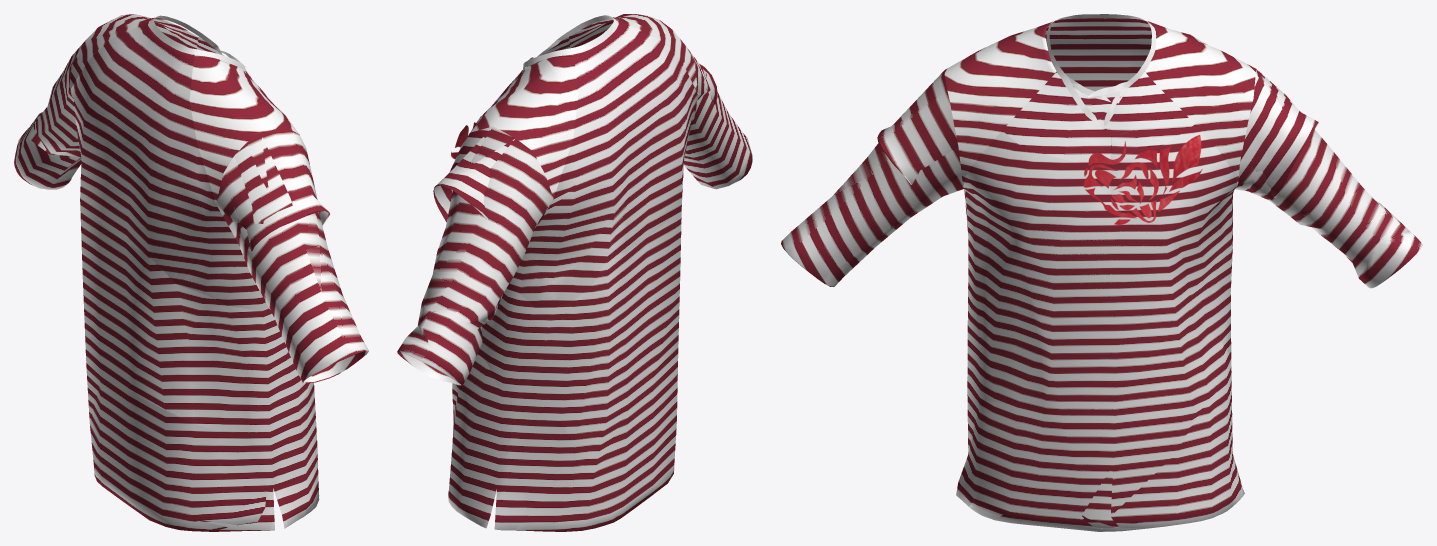
Rendered from telnajka.gltf.
The picture shows the model from 3 angles, left to right: view 1: azimuth 30°, elevation 25°; view 2: azimuth 150°, elevation 25°; view 3: azimuth 270°, elevation 25°; orthographic projection.
Parts seen in each view (by area): view 1: tshirt_s, tshirt_f, d_f, Long, shoulders_0, short, d_s, v; view 2: tshirt_f, tshirt_s, d_f, Long, shoulders_0, short, d_s, v; view 3: tshirt_s, d_f, Long, tshirt_f, shoulders_0, v, short, d_s, Print, c.
Part boxes in pixels (x1,y1,x2,y2): tshirt_s: (80, 23, 310, 434); tshirt_f: (68, 22, 268, 311); d_f: (86, 364, 319, 531); Long: (14, 42, 368, 382); shoulders_0: (68, 14, 299, 203); short: (216, 129, 329, 251); d_s: (193, 475, 319, 531); v: (149, 15, 270, 100); tshirt_f: (507, 21, 698, 307); tshirt_s: (478, 21, 690, 443); d_f: (448, 353, 678, 531); Long: (397, 46, 752, 385); shoulders_0: (470, 14, 698, 198); short: (433, 47, 717, 221); d_s: (461, 488, 526, 530); v: (494, 15, 618, 102); tshirt_s: (963, 18, 1236, 417); d_f: (967, 342, 1238, 528); Long: (781, 69, 1422, 288); tshirt_f: (965, 18, 1237, 291); shoulders_0: (944, 21, 1255, 187); v: (1002, 14, 1194, 165); short: (877, 69, 1318, 197); d_s: (956, 451, 1244, 531); Print: (1083, 134, 1202, 224); c: (1068, 77, 1128, 116).
Size of the model in its own units: 1.36 by 3.25 by 4.09.
Materials: 2 (2 with a texture image).
